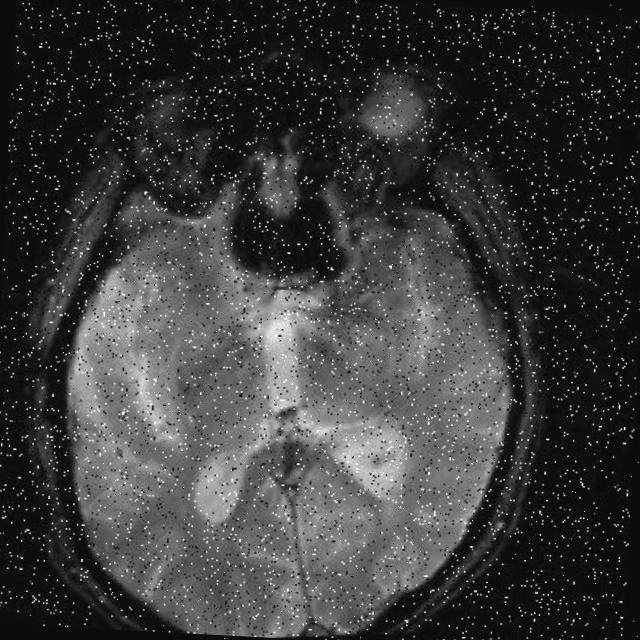CN: (88, 292, 190, 450)
LMCI: (372, 226, 450, 394)
